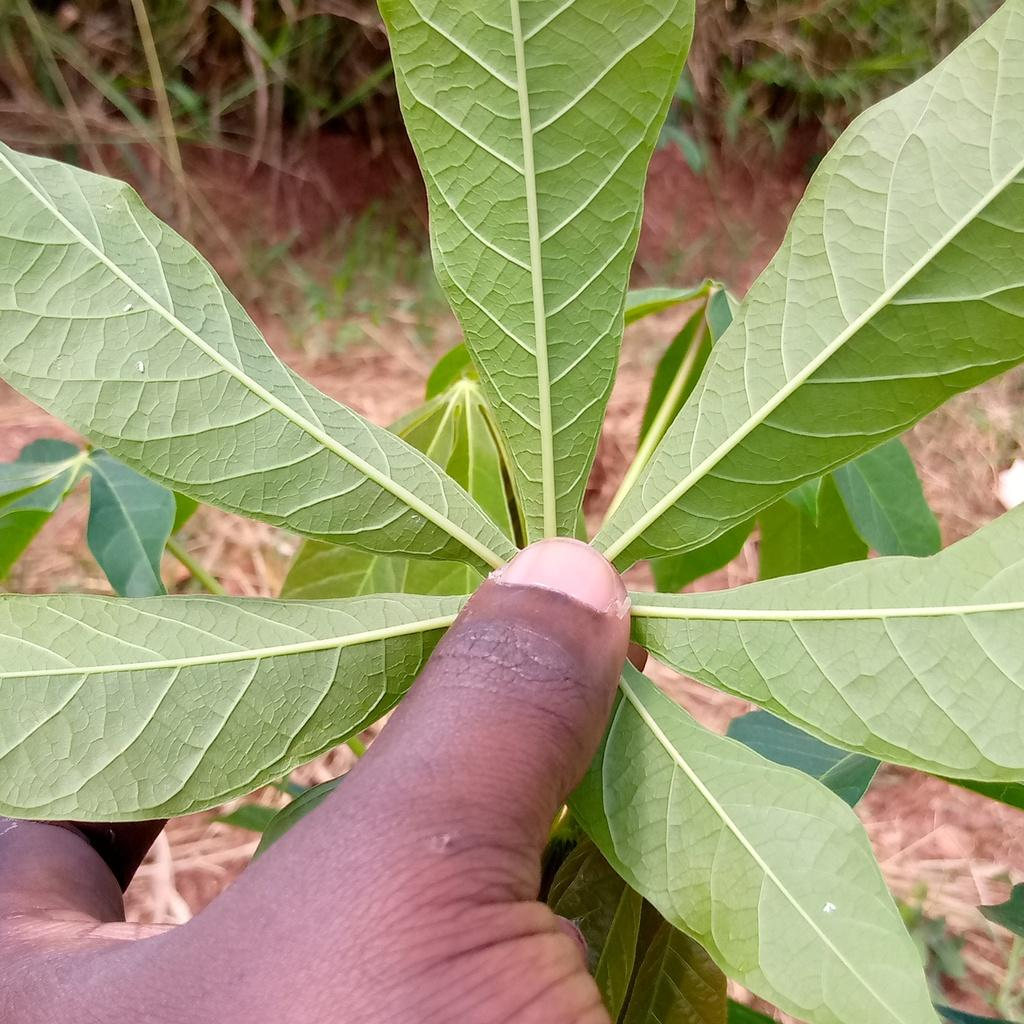adult: (823, 902, 836, 913), (136, 361, 145, 373), (122, 303, 133, 312), (105, 204, 113, 210)
